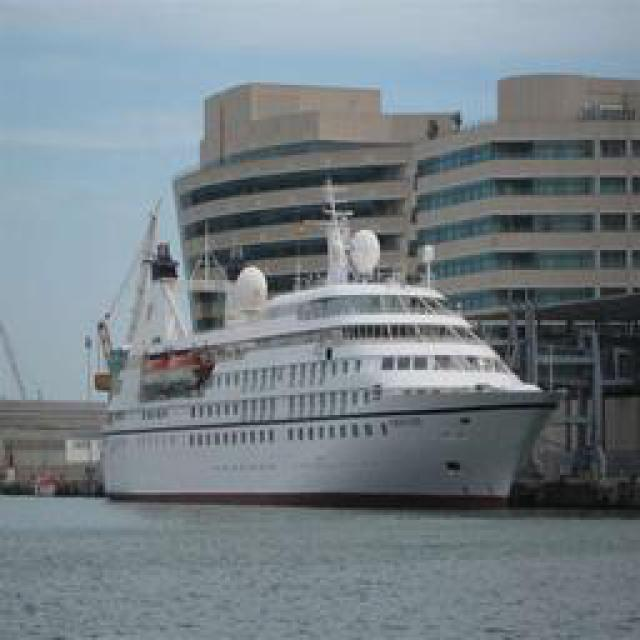Ship: (77, 153, 560, 501)
